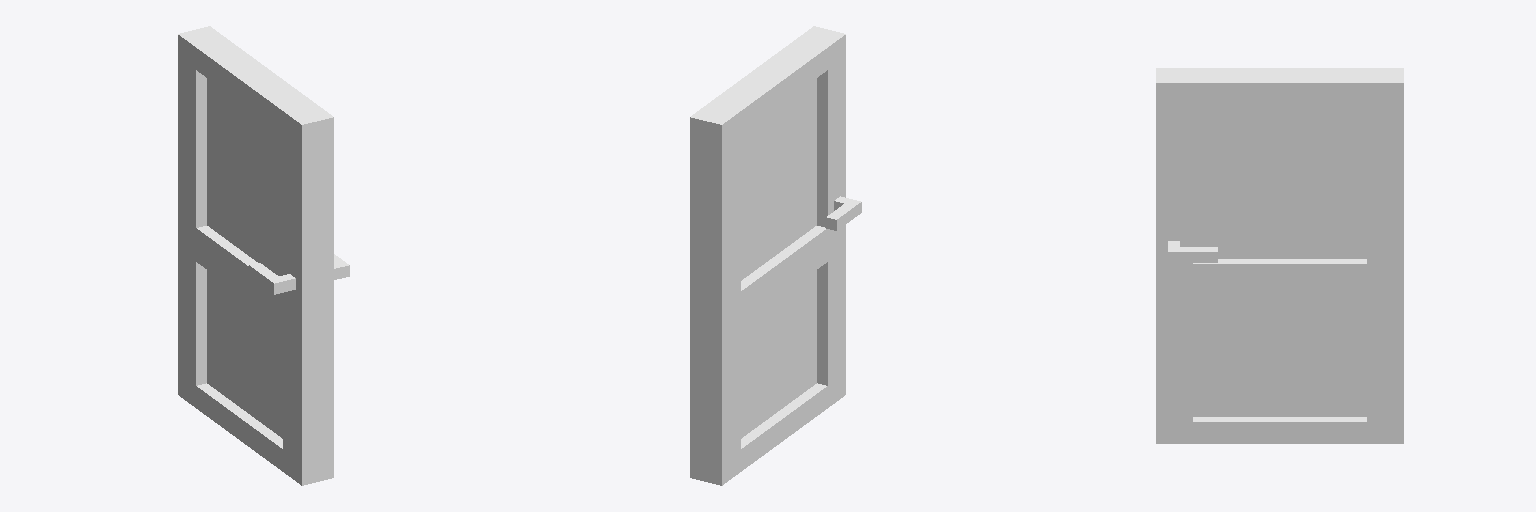
Rendered from Door8x5.obj.
3 views of the same model, side by side, from view 1: azimuth 30°, elevation 25°; view 2: azimuth 150°, elevation 25°; view 3: azimuth 270°, elevation 25° (orthographic).
Size of the model in its own units: 7 by 32 by 20.